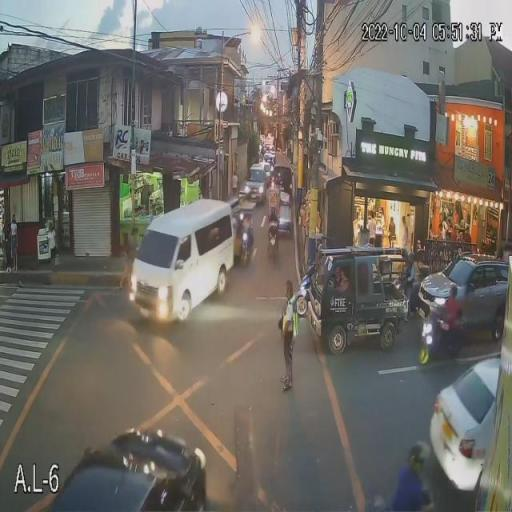helmet: (408, 442, 426, 470), (314, 243, 330, 262), (242, 211, 252, 219), (269, 204, 277, 212)
motorcycle: (418, 308, 464, 366), (294, 276, 316, 318), (237, 228, 255, 266), (266, 223, 280, 259)
rider: (388, 441, 432, 512), (437, 284, 464, 338), (238, 212, 254, 242), (266, 205, 280, 233)
